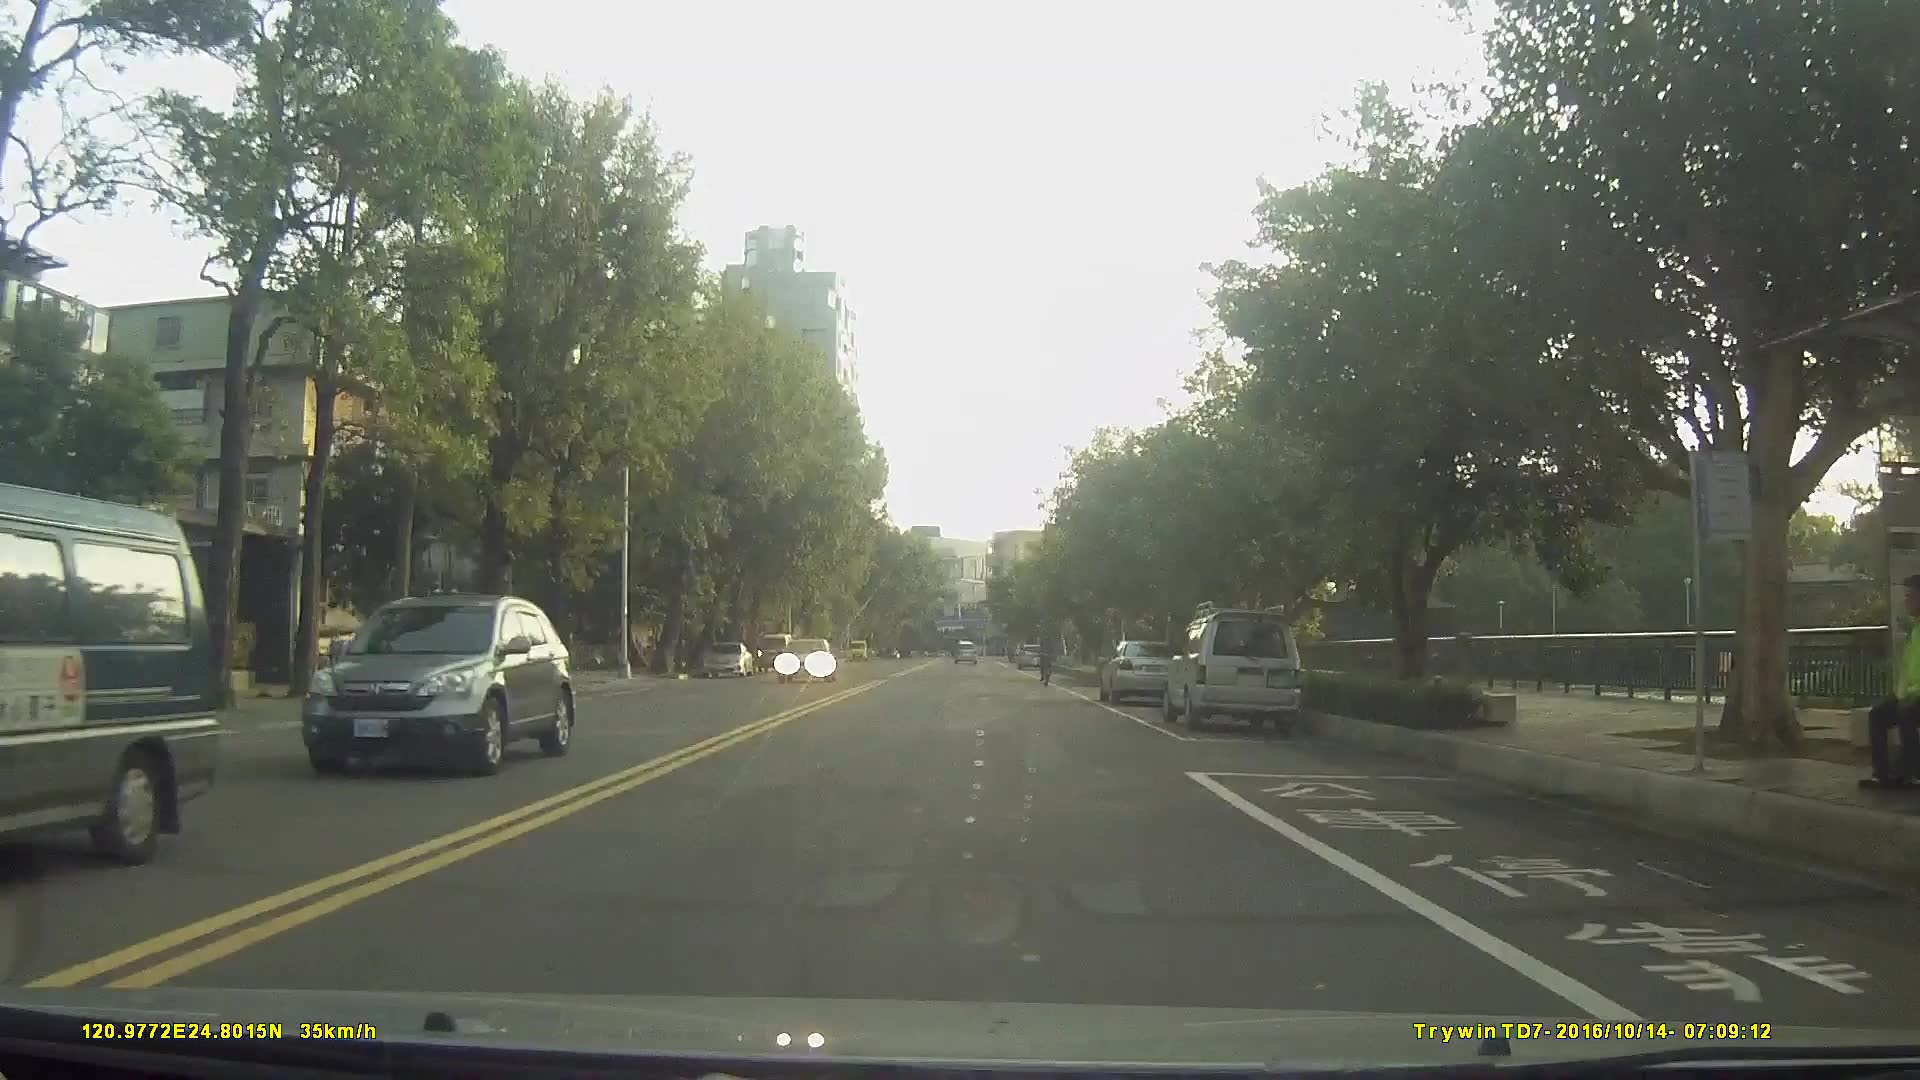pedestrian: (1860, 575, 1920, 798)
rider: (1036, 629, 1056, 688)
vehicle: (0, 481, 217, 888), (297, 592, 573, 777), (1162, 607, 1304, 732), (1099, 633, 1182, 702), (773, 633, 835, 683), (700, 635, 753, 675), (753, 629, 794, 671), (1017, 639, 1046, 668), (951, 634, 979, 660)
